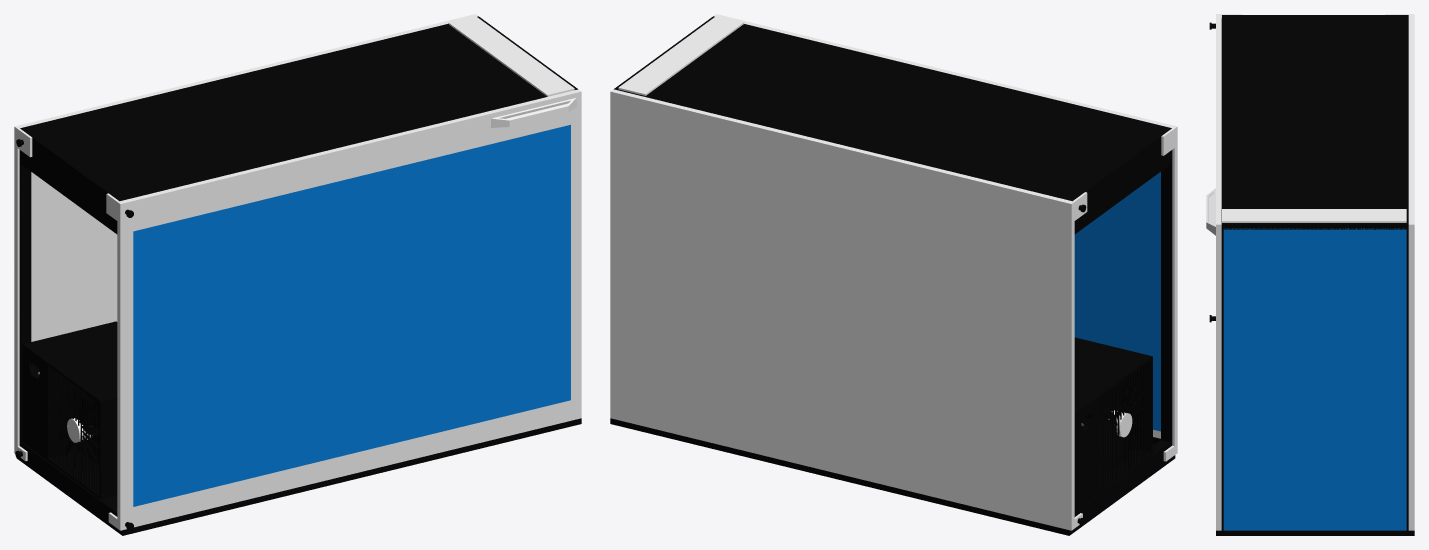
File: pccasefatih.fbx
3 renders of one model, left to right at view 1: azimuth 30°, elevation 25°; view 2: azimuth 150°, elevation 25°; view 3: azimuth 270°, elevation 25°, orthographic. The views are drawn at different scales.
Visible parts, largest first — view 1: right, Plane, left, power, Plane.001, powerfan; view 2: left, Plane, right, power, Plane.001, powerfan; view 3: frontglass, Plane, left, right, Plane.001.
Part boxes in pixels (x1,y1,x2,y2): right: [106, 89, 581, 530]; Plane: [16, 16, 581, 535]; left: [14, 14, 478, 461]; power: [22, 321, 117, 499]; Plane.001: [449, 16, 574, 96]; powerfan: [54, 385, 98, 473]; left: [610, 89, 1087, 530]; Plane: [610, 16, 1175, 535]; right: [713, 14, 1177, 461]; power: [1074, 337, 1152, 511]; Plane.001: [618, 15, 744, 95]; powerfan: [1101, 380, 1143, 467]; frontglass: [1223, 228, 1406, 530]; Plane: [1216, 15, 1414, 535]; left: [1385, 14, 1414, 530]; right: [1206, 14, 1241, 530]; Plane.001: [1222, 209, 1406, 222].
Size of the model in its own units: 254 by 174 by 105.
